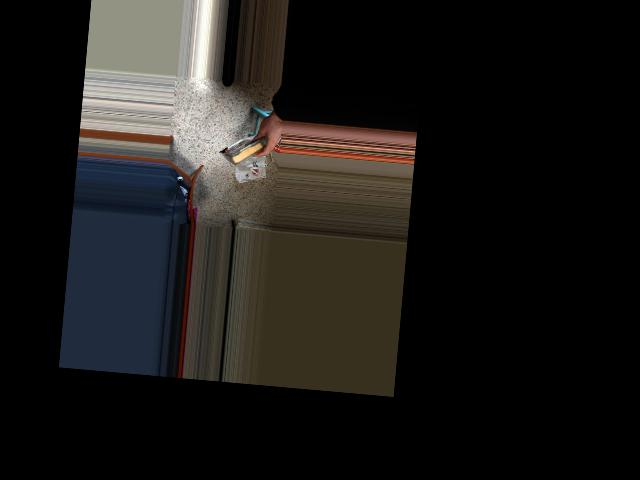cheese: (218, 128, 279, 170)
